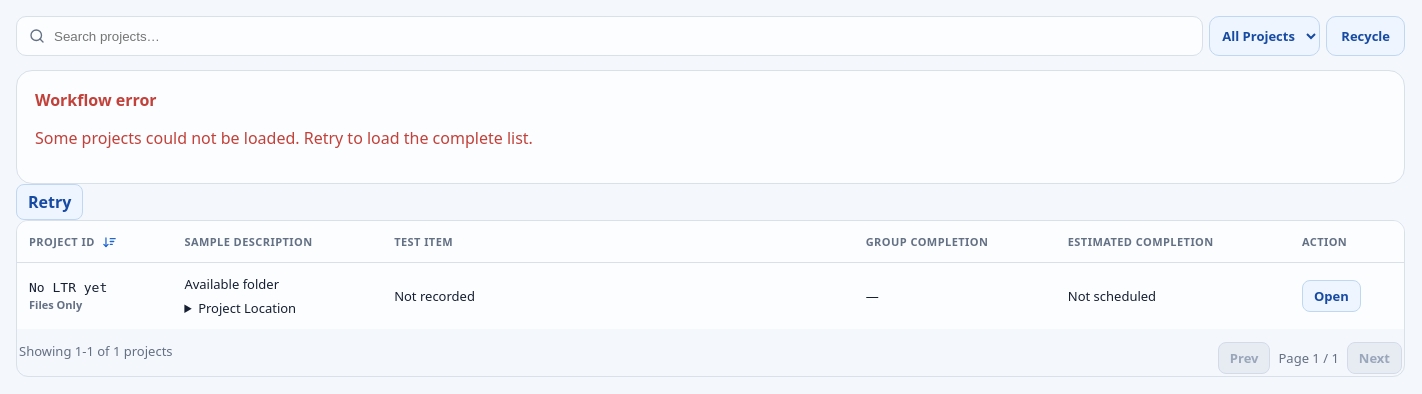
ProjectListPage lifecycle registry views › keeps available folders visible on a partial failure and recovers the complete list on Retry
Expected: the text "Available folder" is shown, [184, 275, 279, 293]
Expected: the message is shown, [16, 70, 1405, 184]
Click the button "Retry". click: (50, 202)
box: [16, 184, 83, 220]
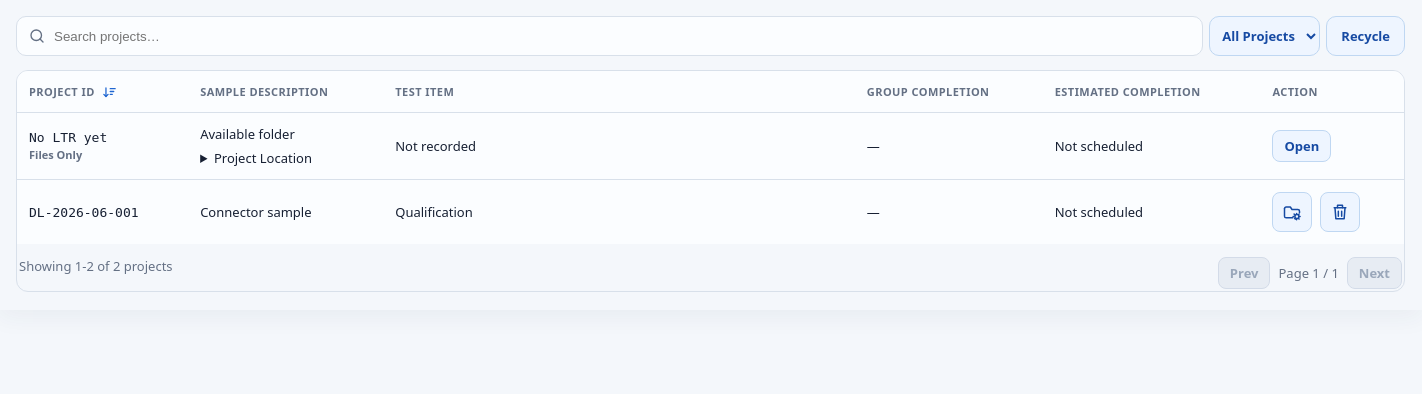
Expected: the text "Available folder" is shown, [200, 125, 295, 143]
Expected: the text "Connector sample" is shown, [188, 180, 383, 244]
Expected: the message is gone
